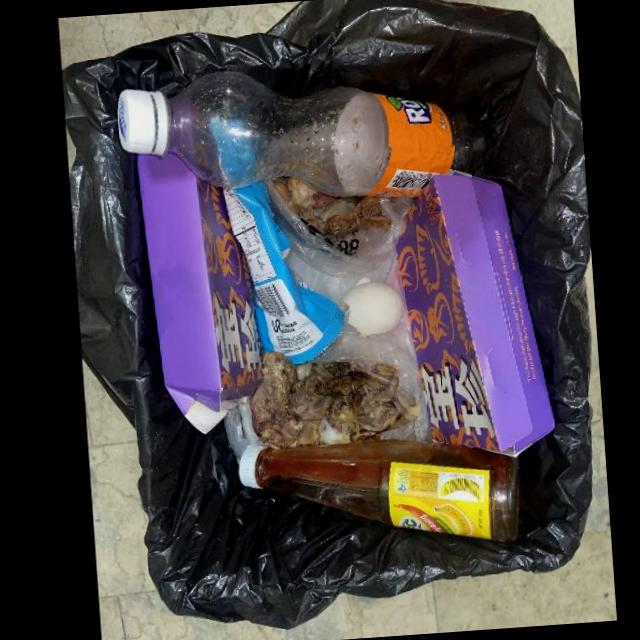bao_bi_thuc_pham: (223, 180, 344, 363)
carton: (395, 170, 555, 455), (136, 151, 261, 433)
chai_nhua_pet: (117, 70, 485, 197)
chai_thuy_tinh: (238, 438, 518, 540)
thuc_an_thua: (249, 350, 419, 447), (274, 176, 340, 234), (325, 196, 390, 235)
vo_trung: (340, 278, 403, 337)
